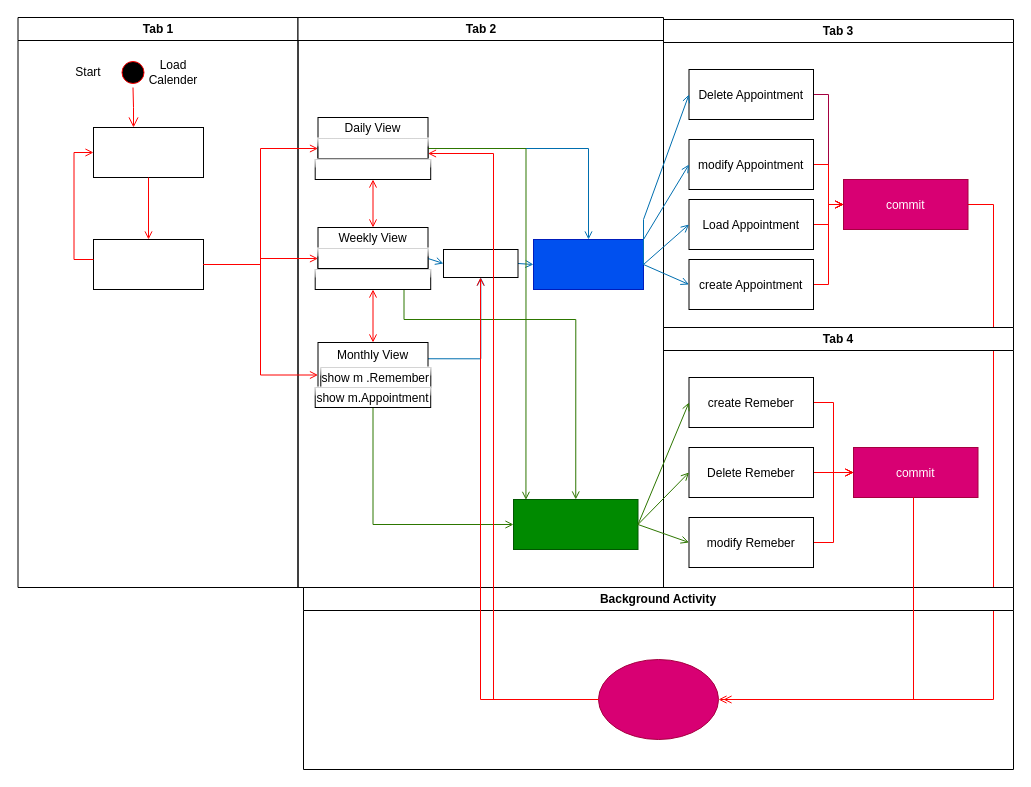
The diagram is 1031 pixels wide and 787 high, and some of its shapes have lost their labels. Each missing label, with the centre of its shape:
"Appointment" goes at (x=588, y=264).
"Choose Option" goes at (x=148, y=264).
"Open Calender Page" goes at (x=148, y=152).
"Remeber" goes at (x=575, y=524).
"Select Day" goes at (x=480, y=263).
"show d .Remember" goes at (x=372, y=148).
"show d.Appointment" goes at (x=372, y=169).
"show w .Remember" goes at (x=372, y=258).
"show w.Appointment" goes at (x=372, y=279).
